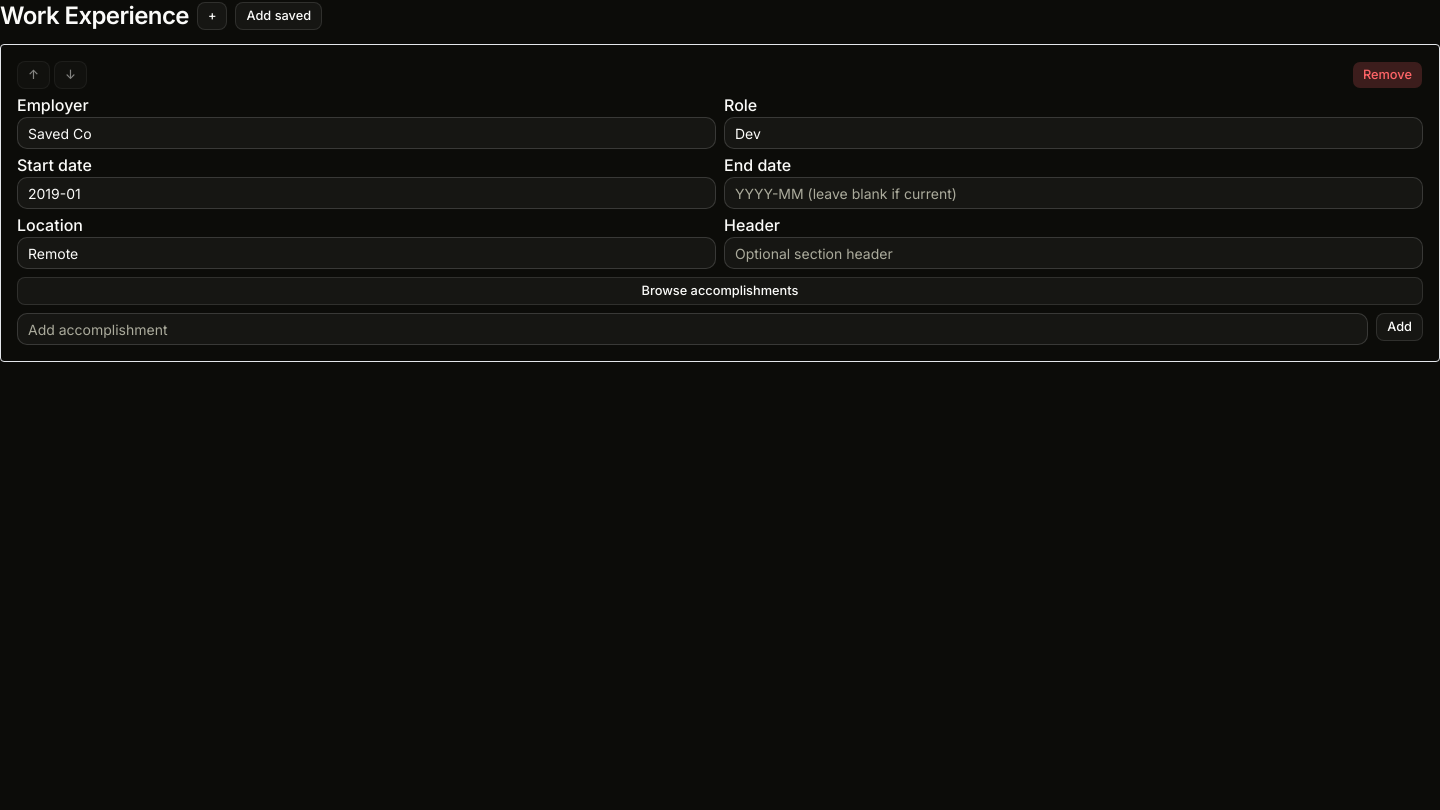
Test: WorkExperienceSection › fetches accomplishments and opens the dialog when Browse is clicked on an existing WE
What coordinates should you click on to do the following:
click the button with test id "acc-lookup-trigger"
I would click on:
 (720, 291)
Its box is left=17, top=277, right=1423, bottom=305.
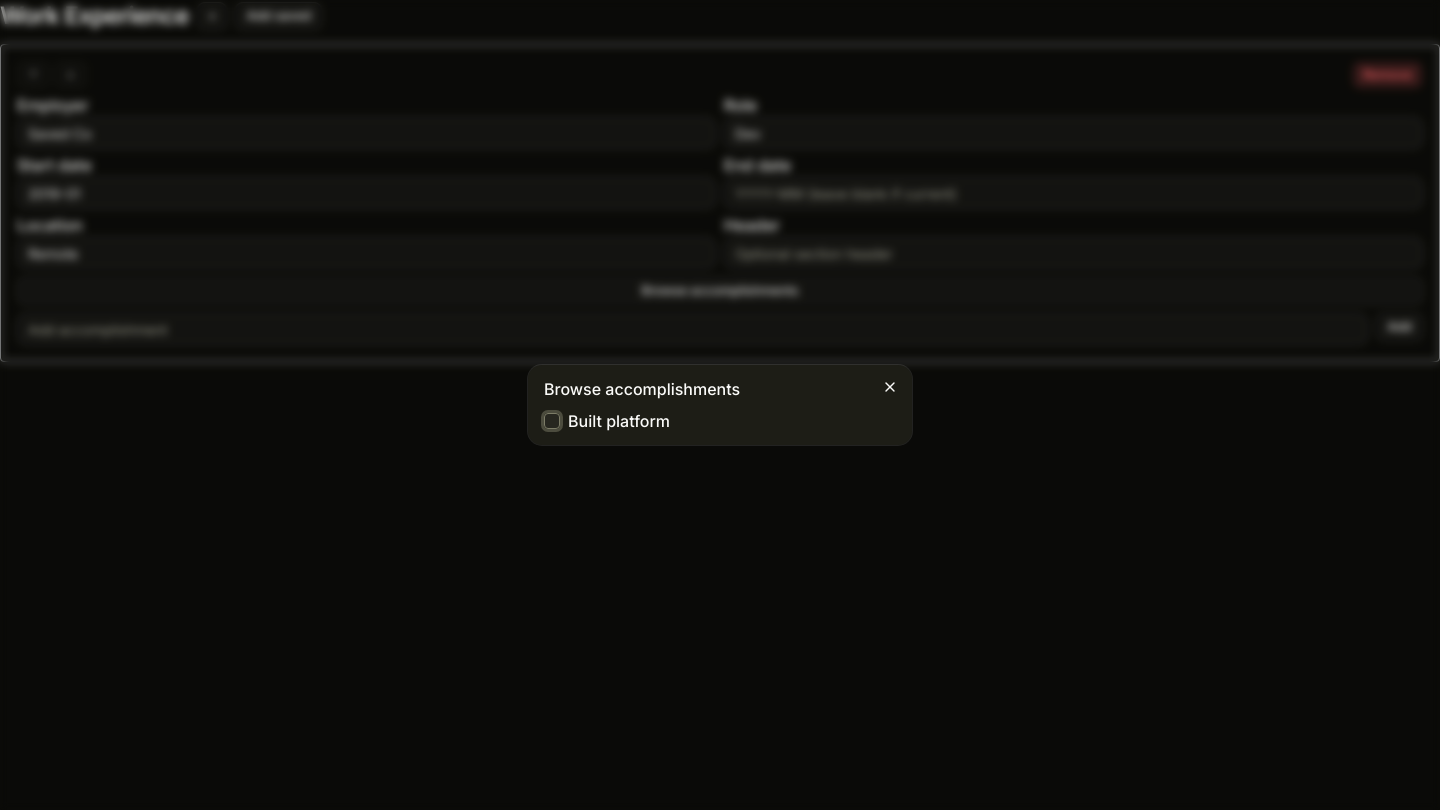
Expected: the checkbox named "Built platform" is shown, left=544, top=413, right=560, bottom=429
